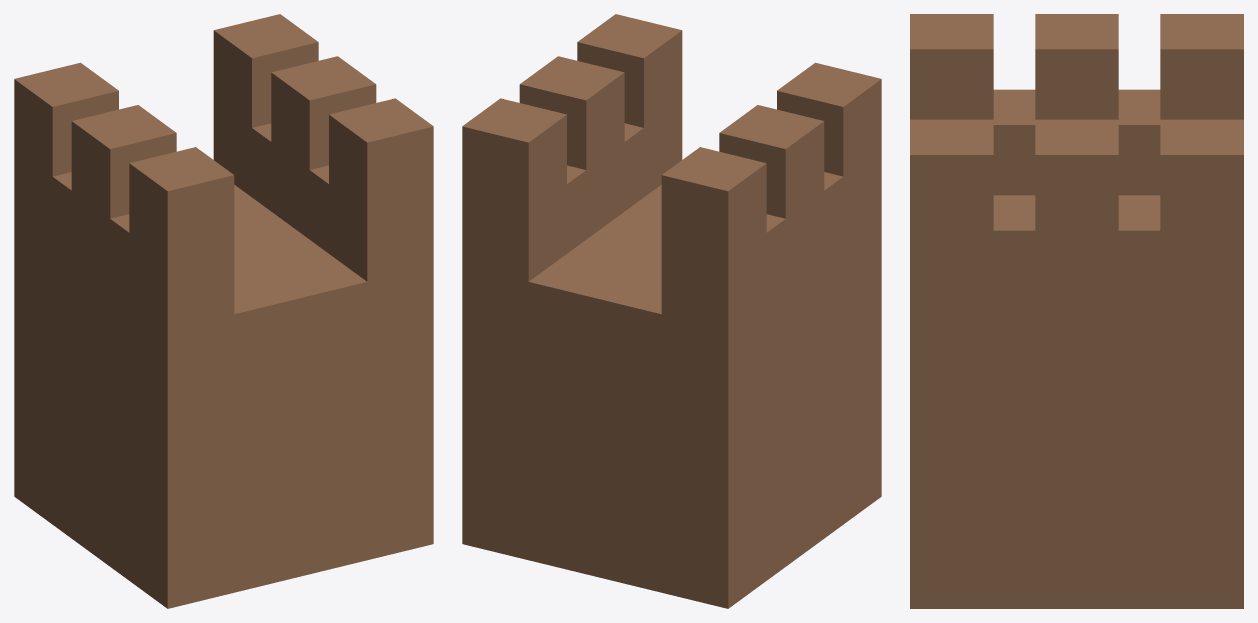
Rendered from burg.glb.
The picture shows the model from 3 angles, left to right: view 1: azimuth 30°, elevation 25°; view 2: azimuth 150°, elevation 25°; view 3: azimuth 270°, elevation 25°; orthographic projection. The views are drawn at different scales.
Parts seen in each view (by area): view 1: Cube; view 2: Cube; view 3: Cube.
Boxes of the visible parts, x1=… form: Cube: x1=14, y1=14, x2=433, y2=608; Cube: x1=462, y1=14, x2=881, y2=608; Cube: x1=910, y1=14, x2=1243, y2=608.
Bounding box in the file's own units: 1 × 1.5 × 1.
